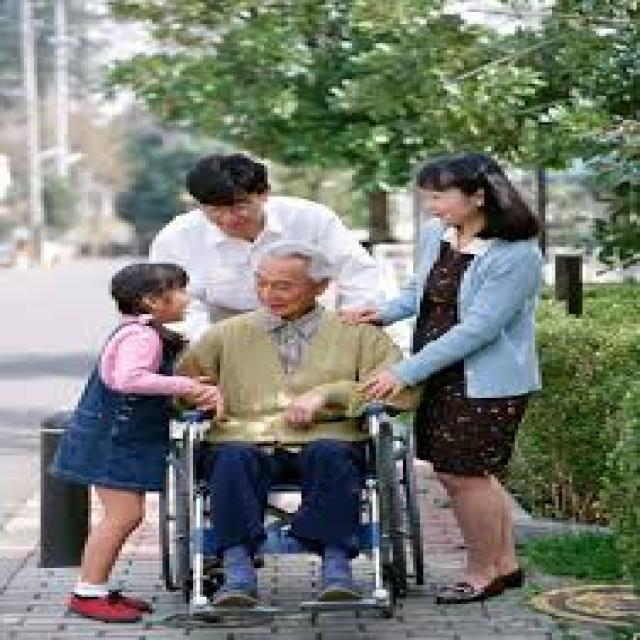wheelchairs: (136, 348, 450, 628)
